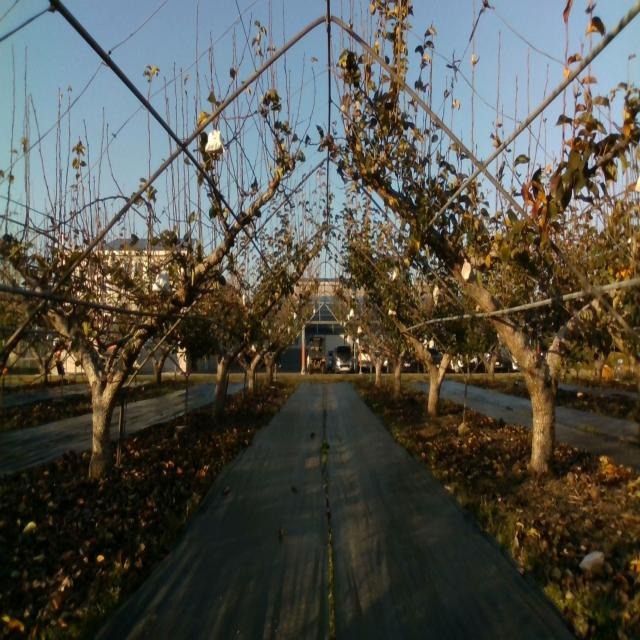pearbags: (204, 130, 226, 154), (152, 270, 171, 294), (462, 259, 474, 285)
